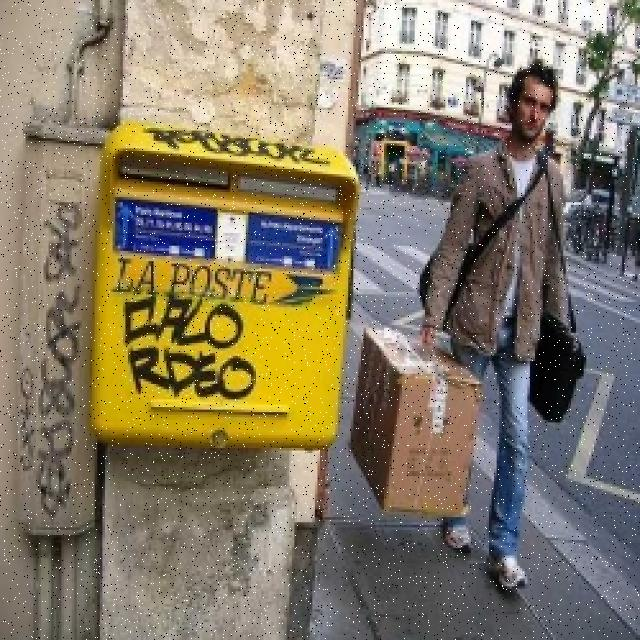box: (372, 320, 474, 521)
